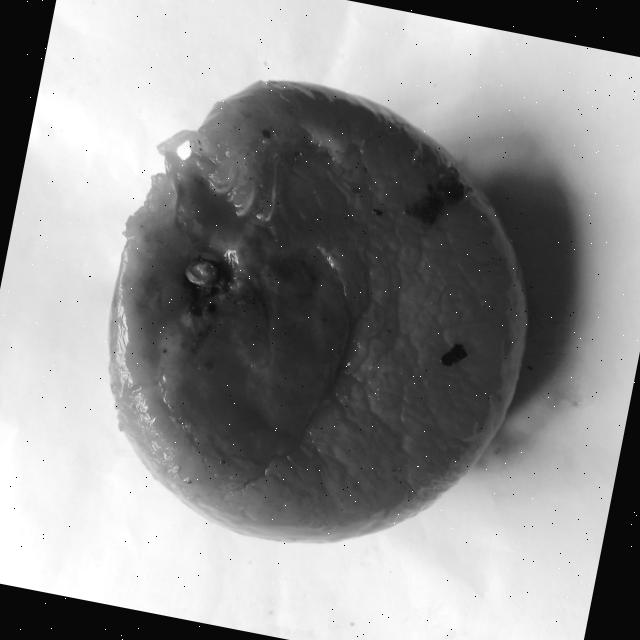Rotten: (66, 56, 572, 582)
